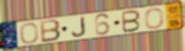6: (94, 13, 112, 37)
B: (39, 19, 62, 44), (121, 9, 142, 34)
J: (71, 16, 88, 38)
O: (18, 22, 40, 45), (144, 7, 165, 30)
